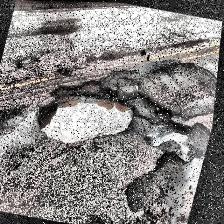pothole: (30, 58, 148, 158)
